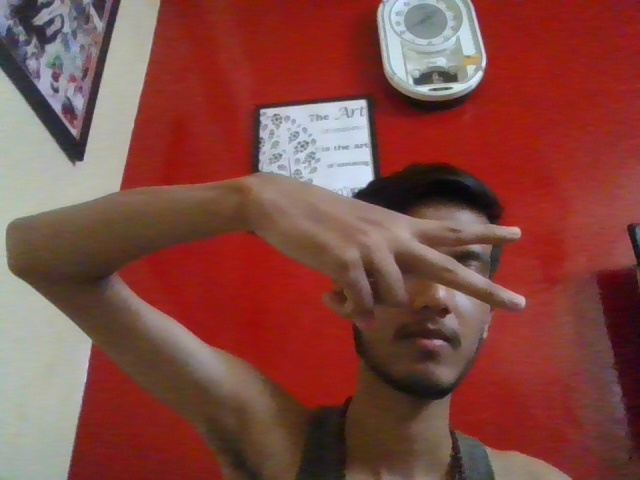LiveLong: (329, 206, 527, 313)
